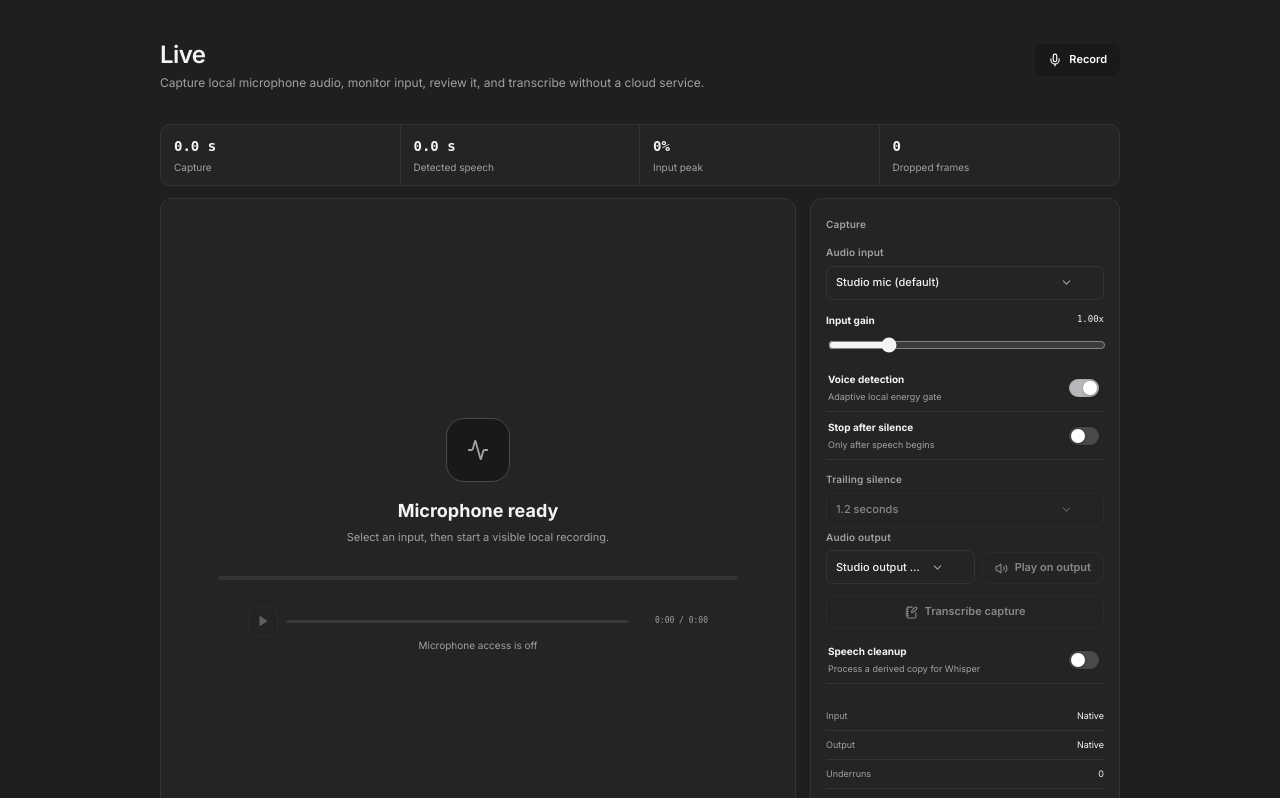
it: Live capture › locks dependent controls when voice detection is disabled
Expected: the button "Record" is shown, [1035,44,1120,76]
Step 1. Click the checkbox labelled "Voice detection" → {"x": 1084, "y": 388}, box [1069,379,1099,397]
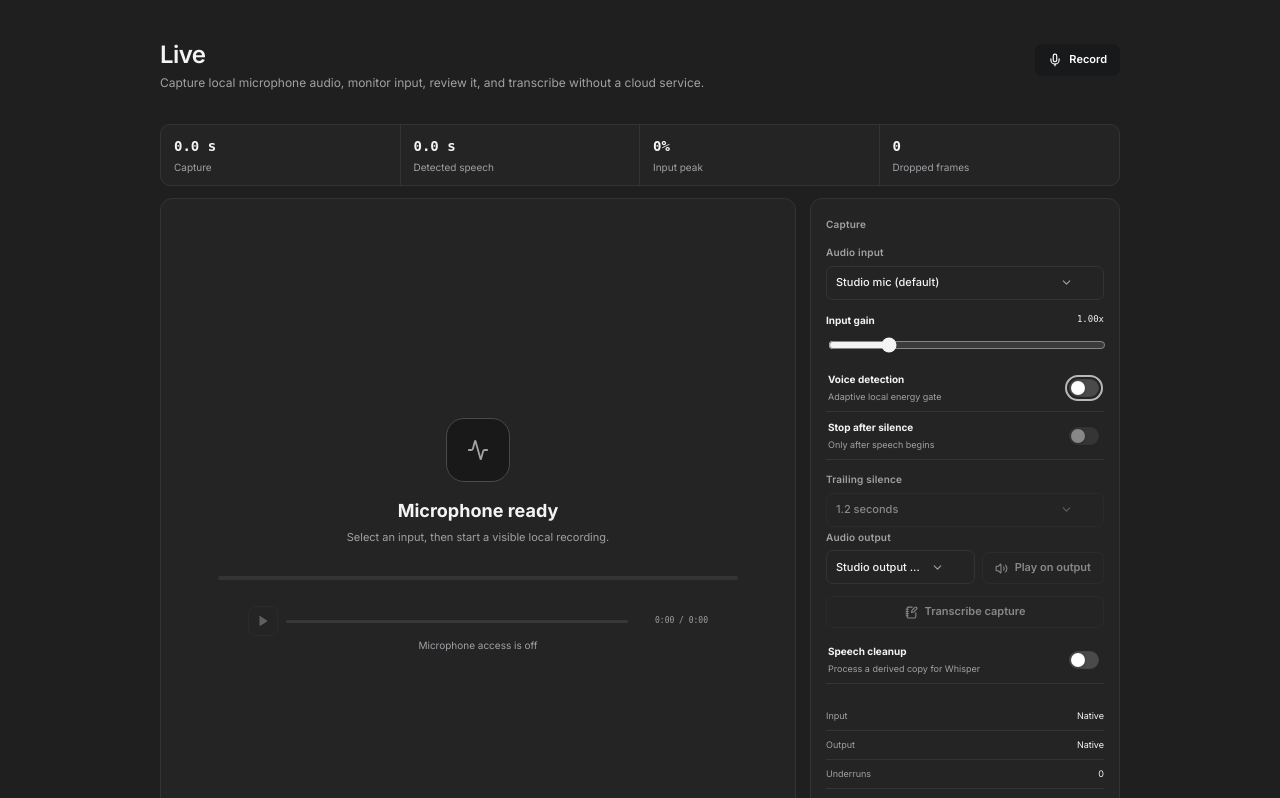
Expected: the dropdown named "Trailing silence" is disabled, [826,493,1104,527]
Expected: the checkbox labelled "Stop after silence" is disabled, [1069,427,1099,445]
